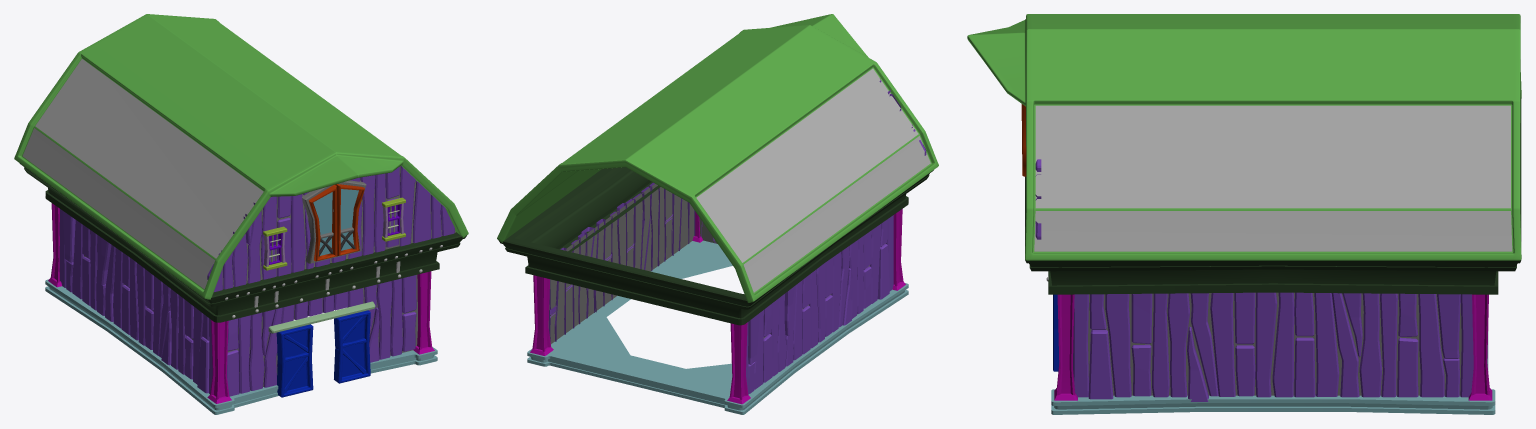
The model's file is barn.fbx.
The picture shows the model from 3 angles, left to right: view 1: azimuth 30°, elevation 25°; view 2: azimuth 150°, elevation 25°; view 3: azimuth 270°, elevation 25°; orthographic projection. The views are drawn at different scales.
Visible parts, largest first — view 1: pasted__polySurface81; view 2: pasted__polySurface81; view 3: pasted__polySurface81.
Boxes of the visible parts, x1,y1,x2,y2 form: pasted__polySurface81: (14, 14, 468, 414); pasted__polySurface81: (497, 14, 938, 414); pasted__polySurface81: (967, 14, 1521, 414).
Bounding box in the file's own units: 889 × 778 × 1242.
